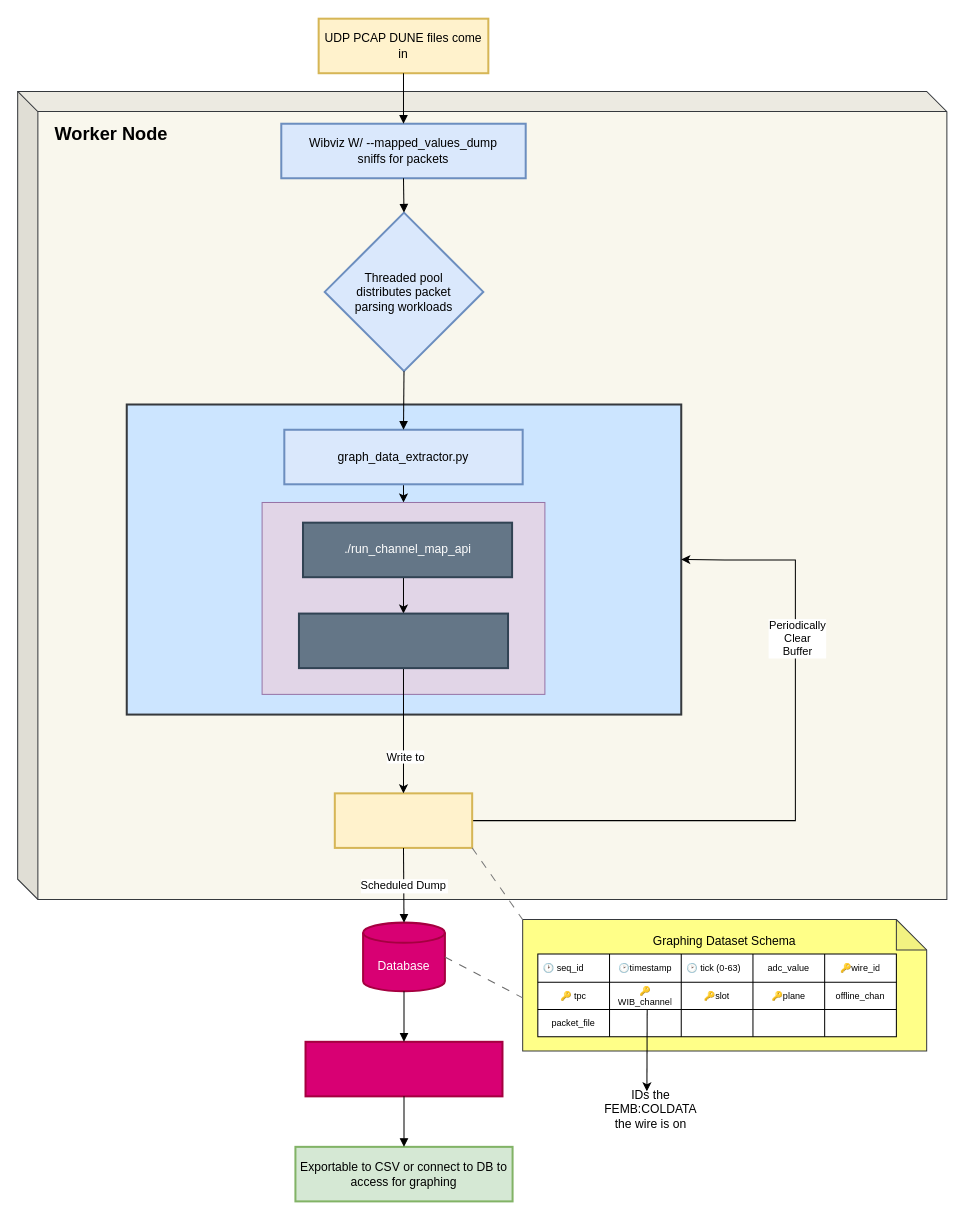
Some shapes in this 965 by 1219 pixel diagram are drawn without their labels. The box of each missing label's shape, as (x1, y1, x2, y2) in pixels:
(Unordered) Buffer: (333, 792, 473, 848)
./channel-to-wire: (297, 612, 509, 669)
Provide view of ordered/sorted data w/ time ticks: (304, 1040, 503, 1097)
Sub-processes: (261, 501, 545, 694)
